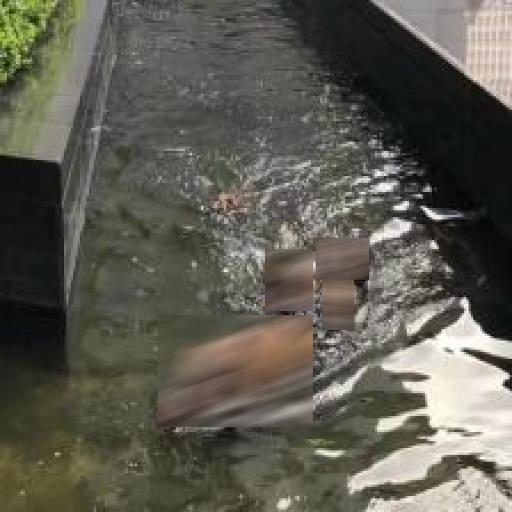Pig: (158, 316, 313, 428), (265, 249, 313, 311), (316, 238, 369, 280), (322, 272, 354, 330)
